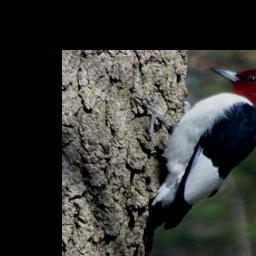Woodpecker: (128, 65, 256, 234)
